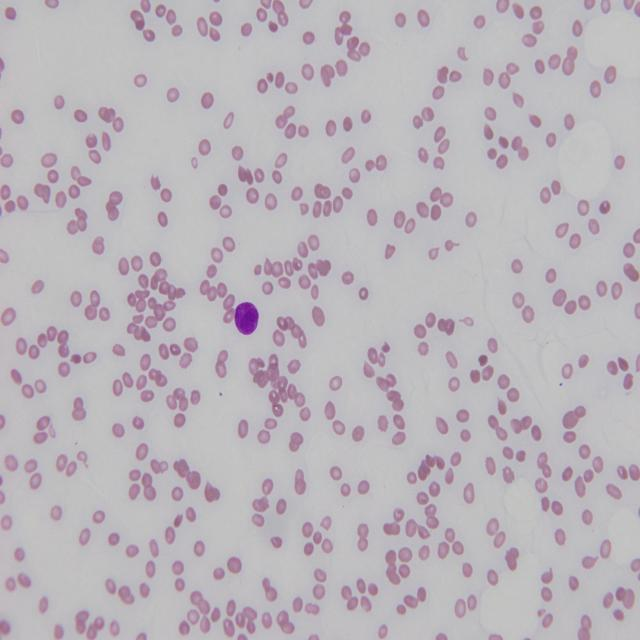cell: (235, 301, 259, 335)
